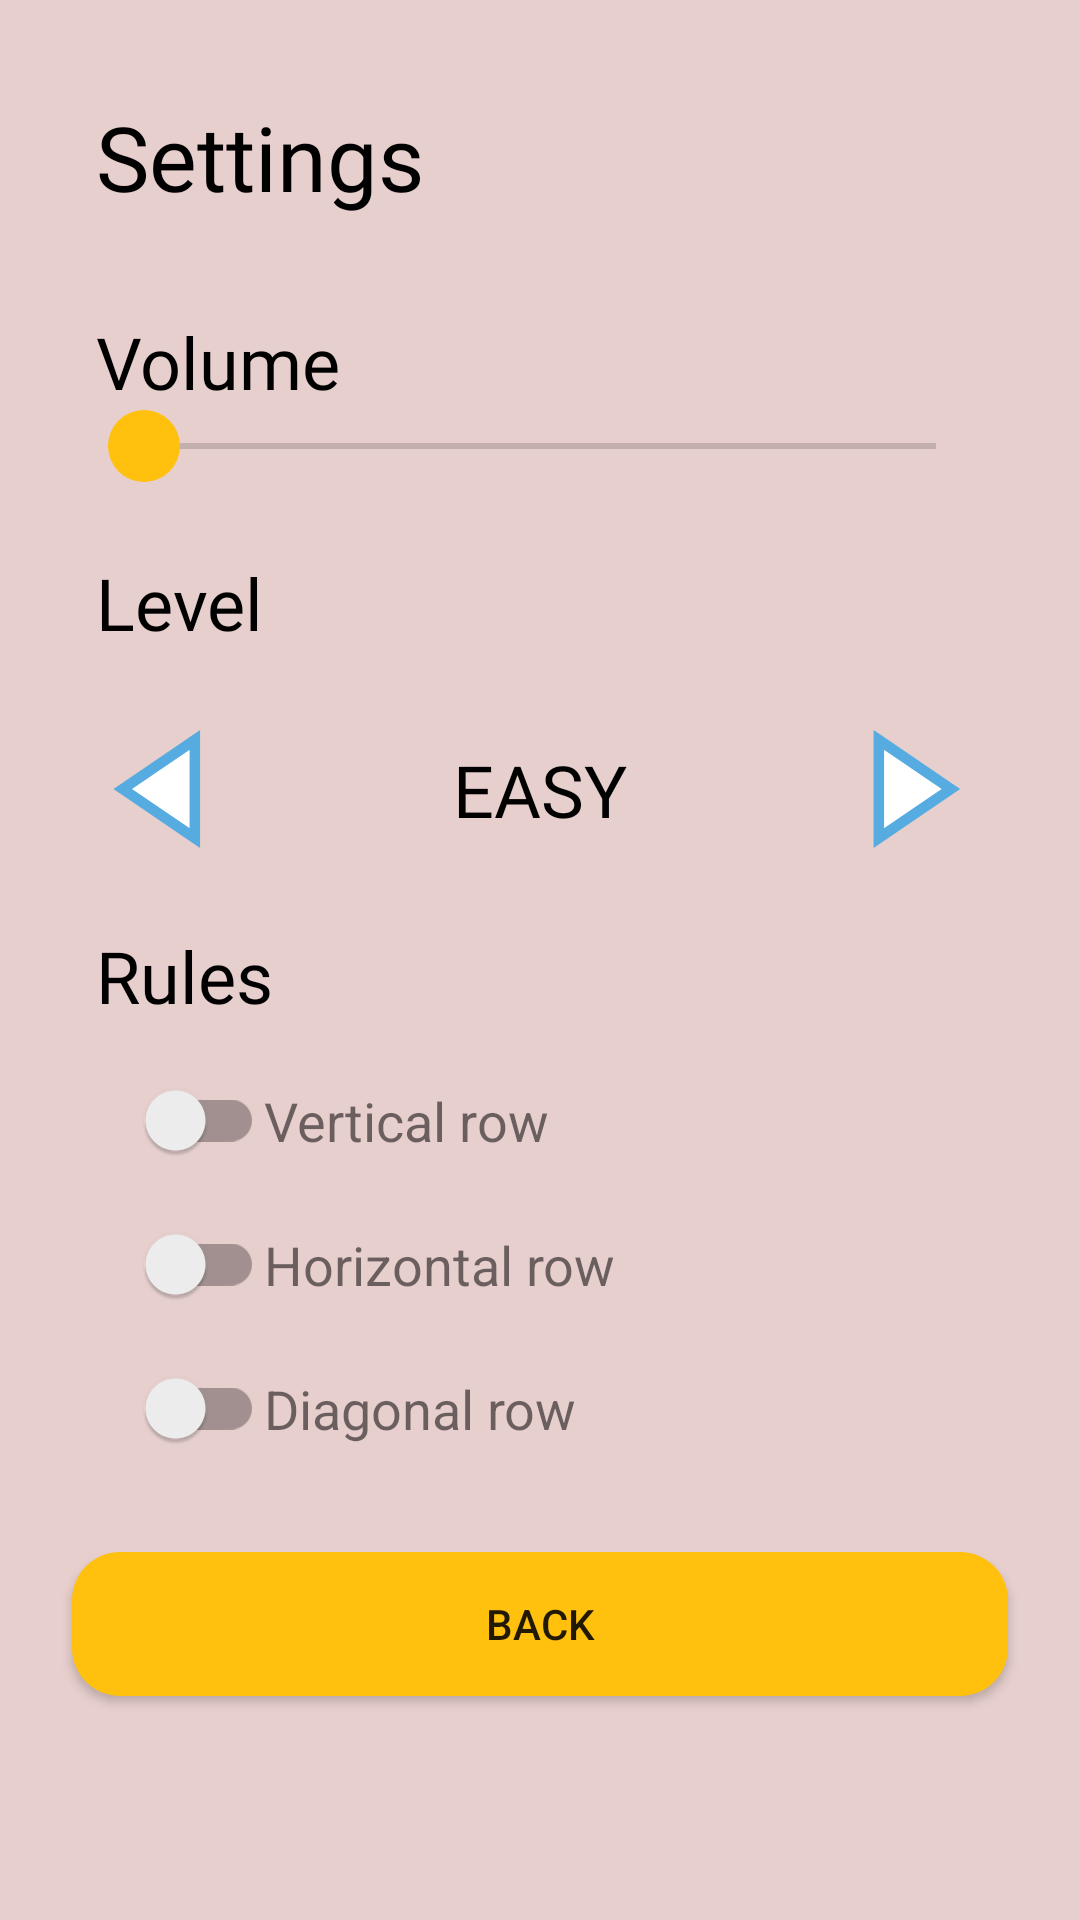

Icons on this 1080w x 1920h Android screen, each with the point to tap as (x,y):
next: (916,789)
previous: (157,789)
